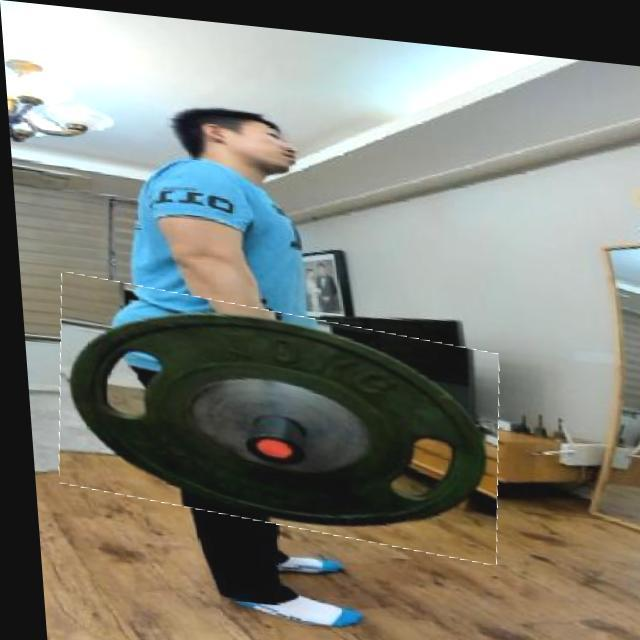barbell: (45, 280, 503, 549)
